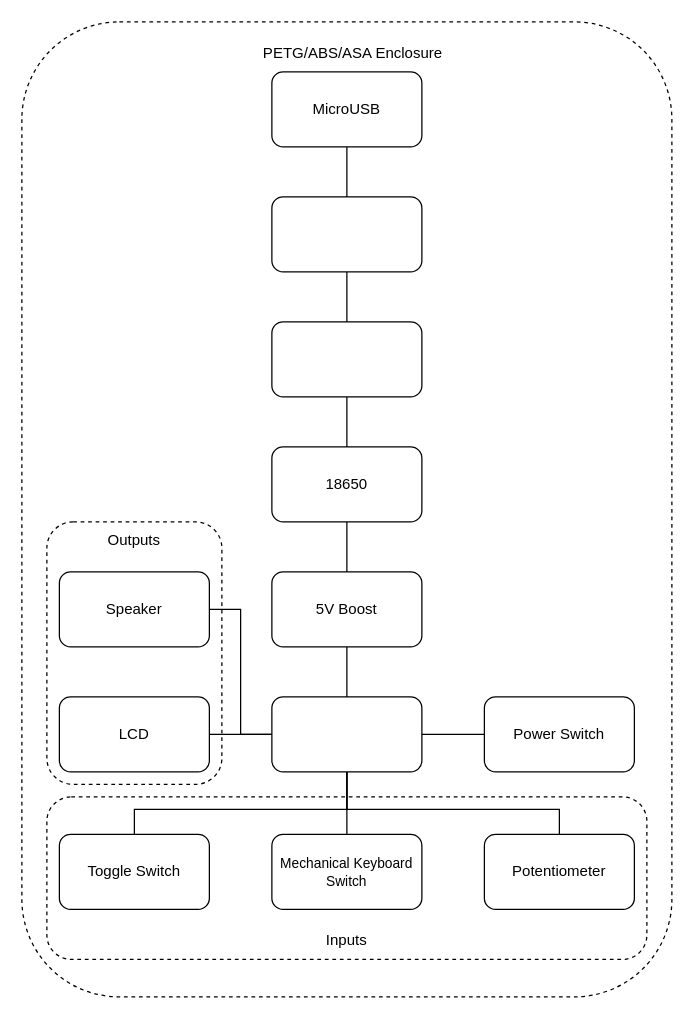
The diagram is 694 pixels wide and 1019 high, and some of its shapes have lost their labels. Here are the shapes that lost their labels. From the top down, the centre of each, then its label:
[346,234]: Input Protection
[346,359]: Battery Control IC
[346,734]: AtMega 328p
